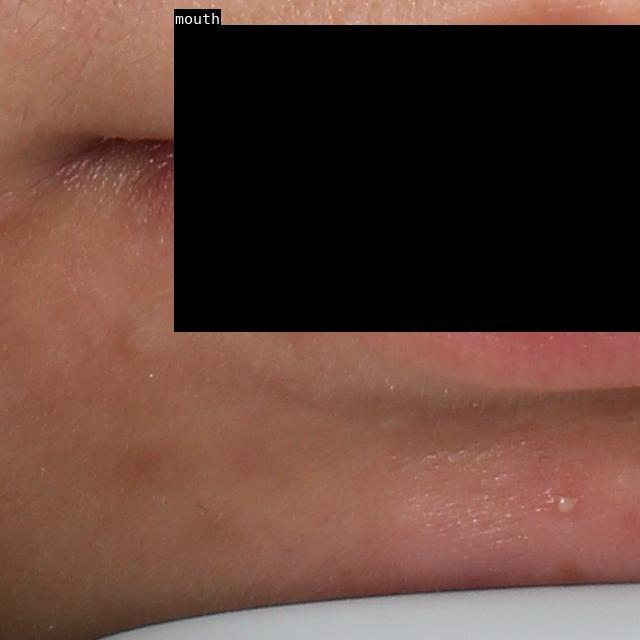comedo: (112, 319, 157, 362)
hypertrophic_scar: (373, 413, 404, 434)
pustule: (553, 494, 584, 521)
